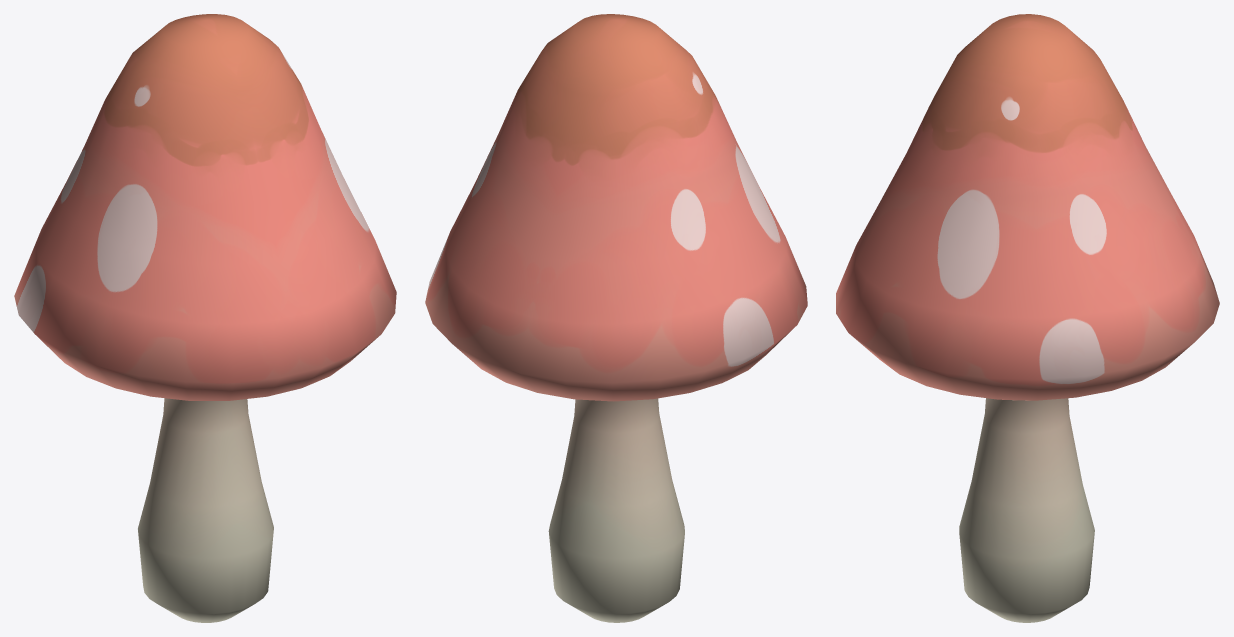
File: SHRoom 4.fbx
3 views of the same model, side by side, from view 1: azimuth 30°, elevation 25°; view 2: azimuth 150°, elevation 25°; view 3: azimuth 270°, elevation 25° (orthographic).
Parts seen in each view (by area): view 1: Sphere009; view 2: Sphere009; view 3: Sphere009.
Boxes of the visible parts, bbox=[...] form: Sphere009: bbox=[14, 14, 396, 622]; Sphere009: bbox=[425, 14, 807, 622]; Sphere009: bbox=[836, 14, 1219, 622].
Size of the model in its own units: 12.31 by 20.97 by 12.42.
